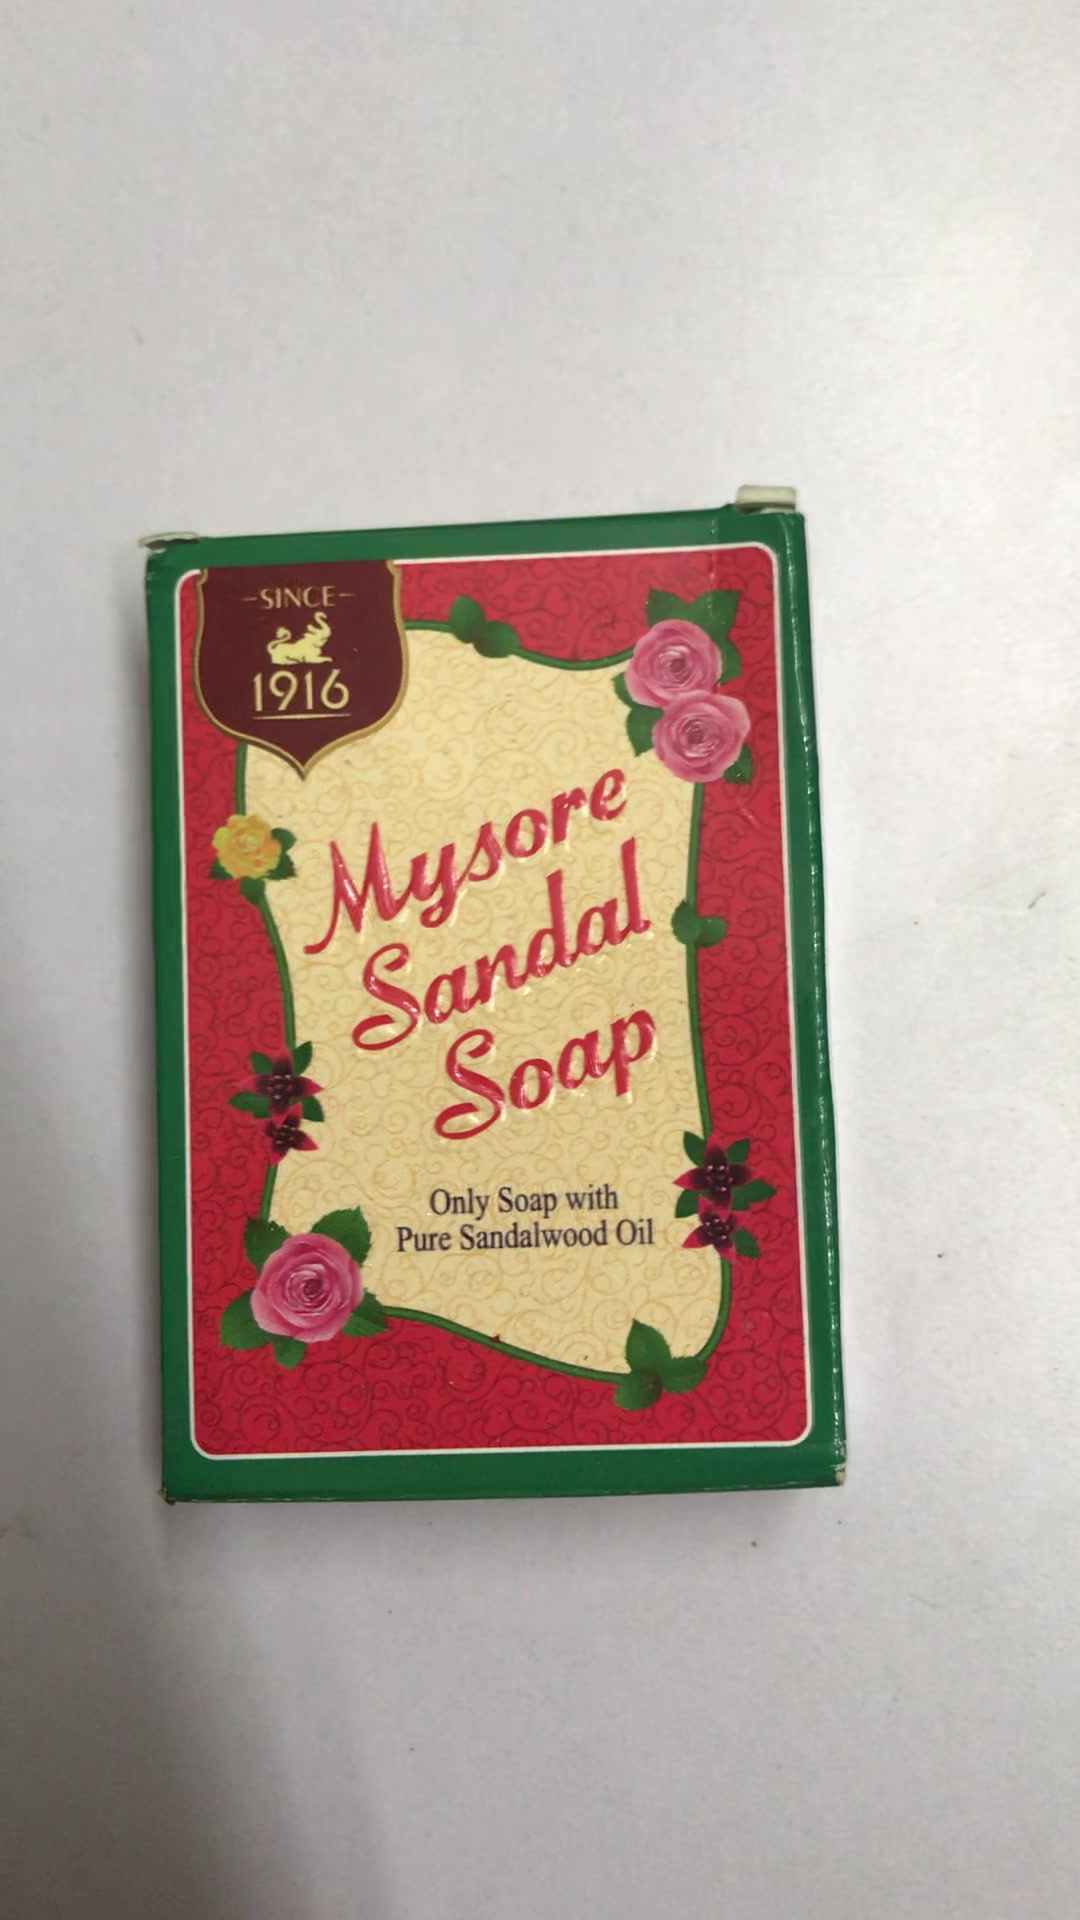mysore sandal soap: (152, 516, 847, 1491)
